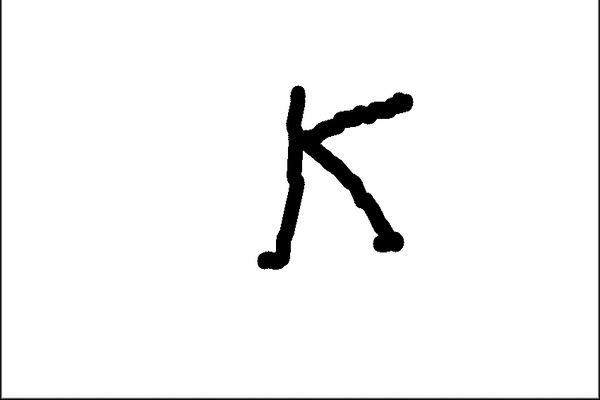K: (250, 73, 421, 273)
